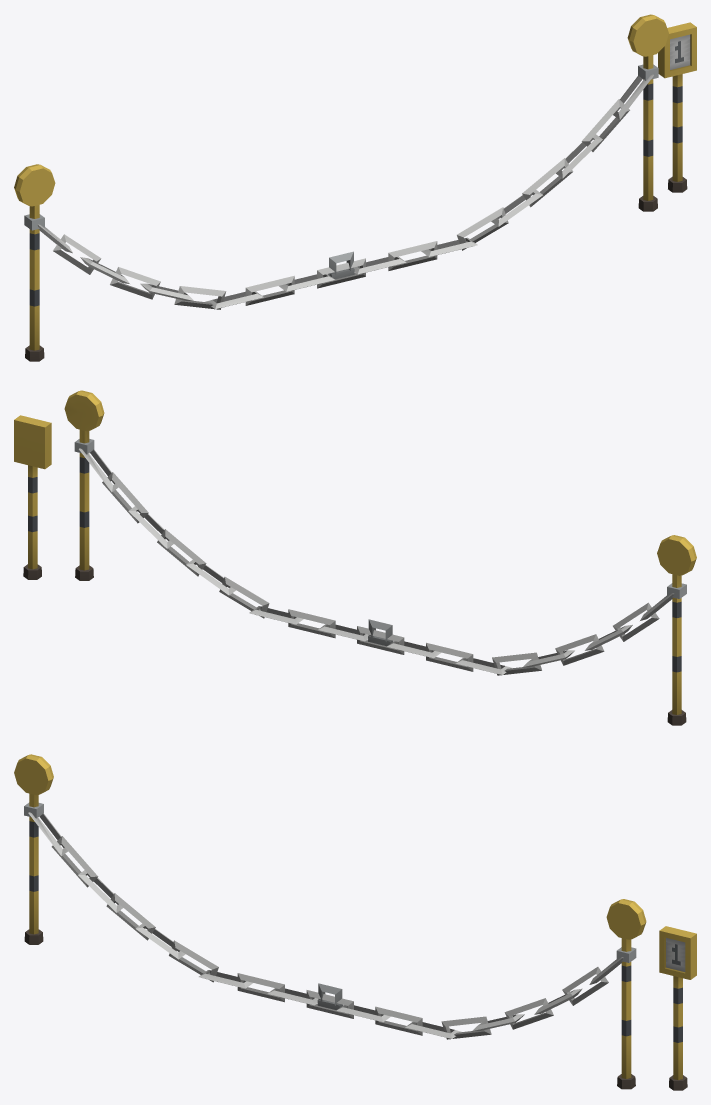
The model's file is chain.glb.
3 views of the same model, one above another, from view 1: azimuth 30°, elevation 25°; view 2: azimuth 150°, elevation 25°; view 3: azimuth 330°, elevation 25° (orthographic). The views are drawn at different scales.
Parts seen in each view (by area): view 1: chain; view 2: chain; view 3: chain.
Part boxes in pixels (x1,y1,x2,y2): chain: (14,14,696,361); chain: (14,390,696,725); chain: (14,754,696,1090).
Size of the model in its own units: 9 by 2.39 by 0.5.
